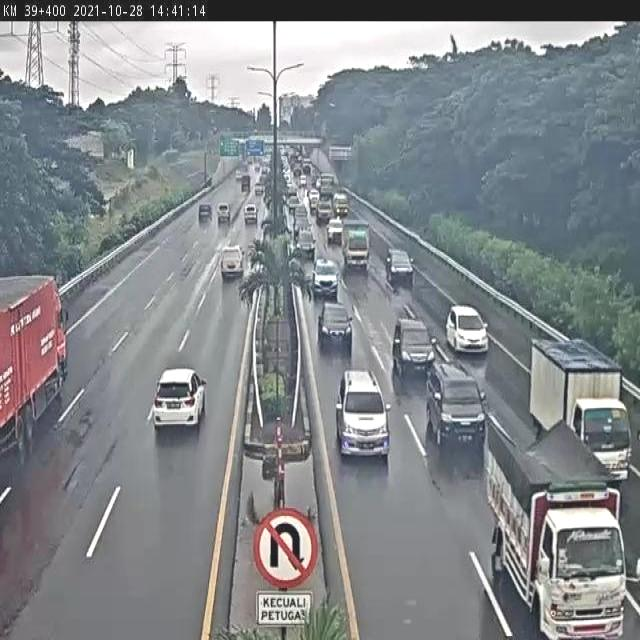Car: (336, 369, 392, 461), (426, 362, 485, 449), (152, 367, 208, 435), (393, 317, 436, 375), (446, 306, 489, 356), (317, 301, 353, 350), (386, 248, 414, 286), (312, 257, 338, 297), (295, 229, 316, 260), (325, 217, 342, 244), (198, 204, 213, 224), (244, 204, 258, 224), (217, 203, 230, 224)
Truck: (480, 408, 631, 640), (526, 329, 640, 490), (0, 274, 71, 466), (341, 217, 372, 272)
Van: (221, 246, 246, 282)
